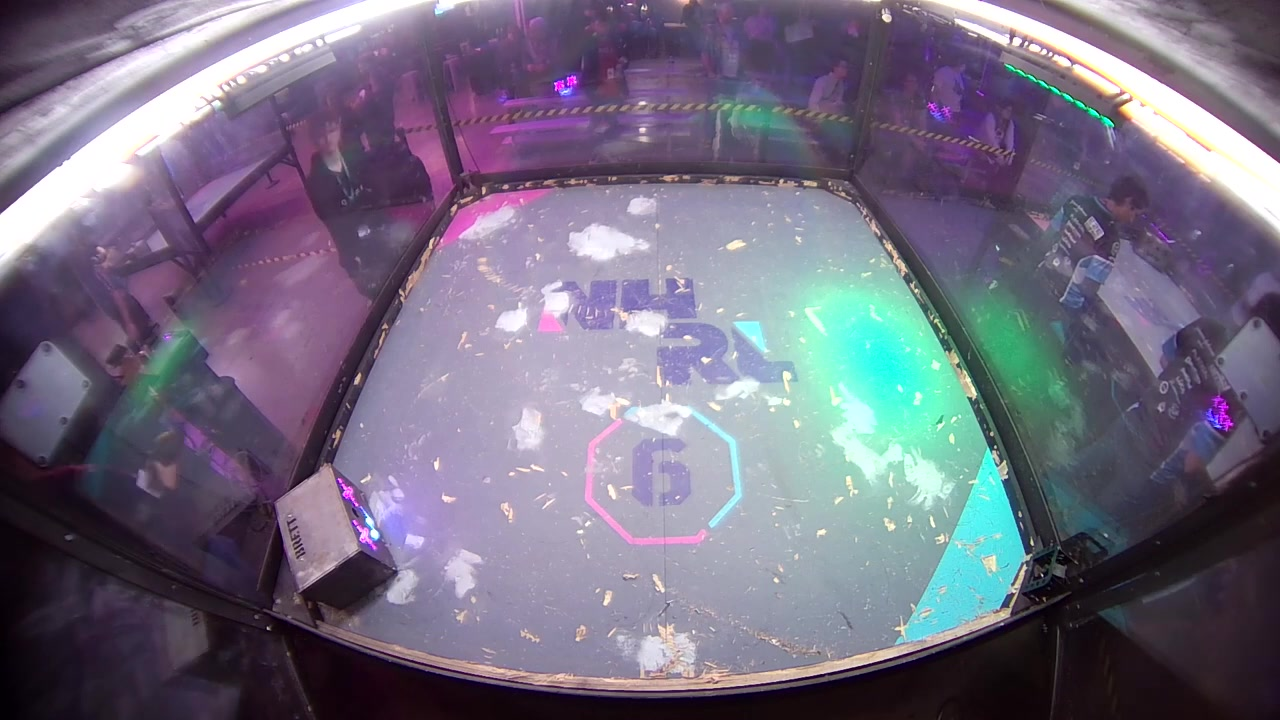housebot: (276, 465, 397, 616)
